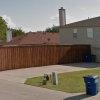Chimney: (50, 3, 72, 23)
